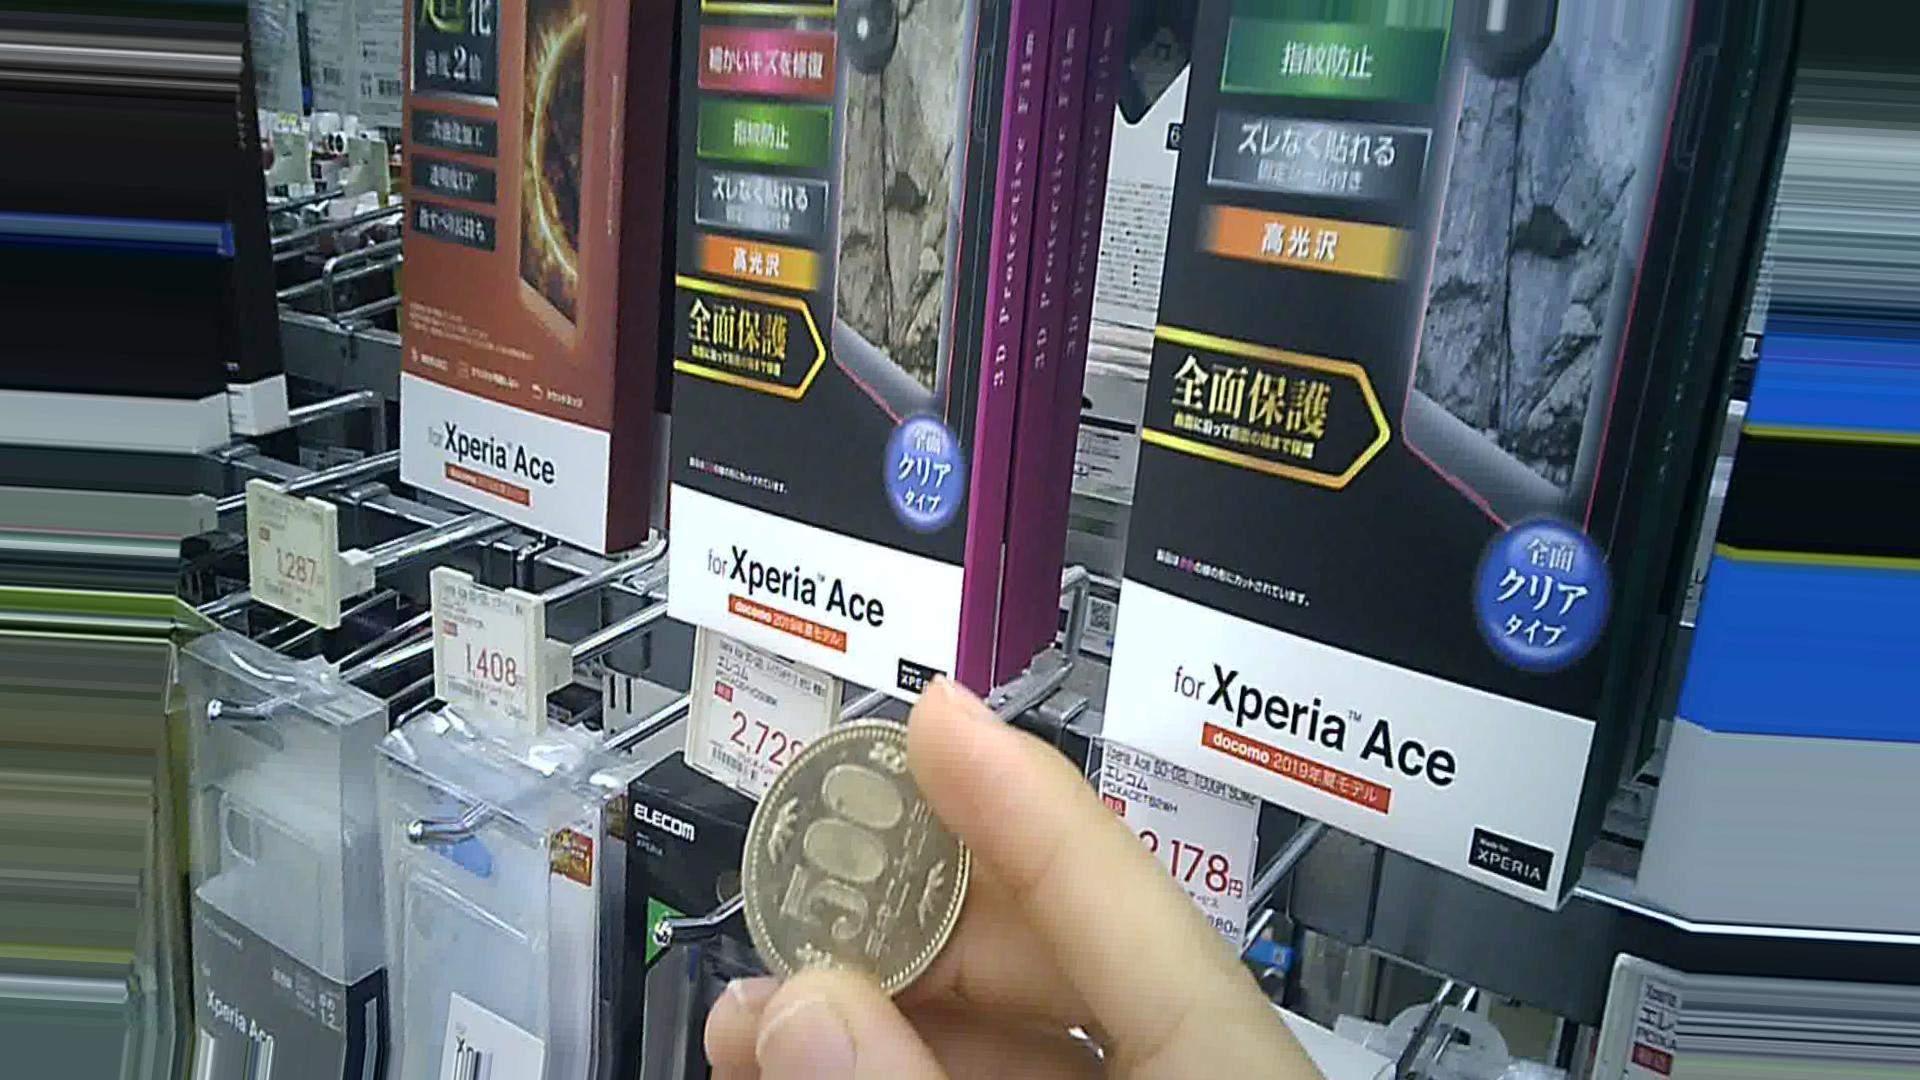500 Yen: (742, 721, 978, 1013)
